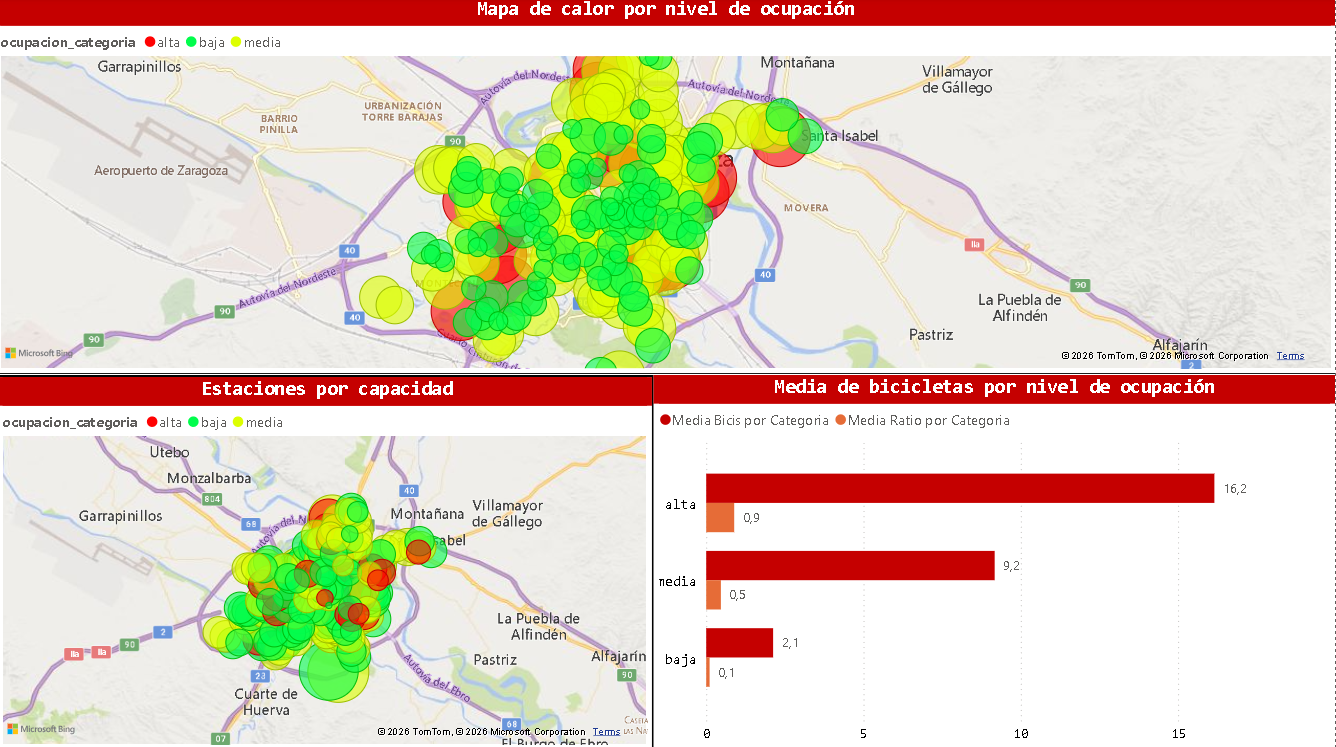

What the dashboard file says about the page in this screenshot:
{"tool":"powerbi","page":{"name":"Análisis espacial","canvas":[1280,720],"ordinal":4},"visuals":[{"type":"map","title":"Mapa de calor por nivel de ocupación","fields":{"Y":["bizi_clean.lat"],"X":["bizi_clean.lon"],"Size":["Sum(bizi_clean.ratio_estacion)"]},"box":[0,0,1280.6,359.5],"z":0},{"type":"map","title":"Mapa de calor de estaciones por capacidad","fields":{"Y":["bizi_clean.lat"],"X":["bizi_clean.lon"],"Size":["Sum(bizi_clean.capacity)"]},"box":[0,361.1,629.5,359.5],"z":1000},{"type":"clusteredBarChart","title":"Media de bicicletas por nivel de ocupación","fields":{"Category":["bizi_clean.ocupacion_categoria"],"Y":["bizi_clean.Media Bicis por Categoria","bizi_clean.Media Ratio por Categoria"]},"box":[629,361,651,359],"z":2000}]}

Visuals, with their boxes in screenshot pixels (x1, y1, x2, y2), scaled from the page's 1280x720 canvas onto the 1336x747 screenshot:
"Mapa de calor por nivel de ocupación" map: crop(0, 0, 1335, 373)
"Mapa de calor de estaciones por capacidad" map: crop(0, 375, 657, 746)
"Media de bicicletas por nivel de ocupación" clusteredBarChart: crop(657, 375, 1335, 746)
